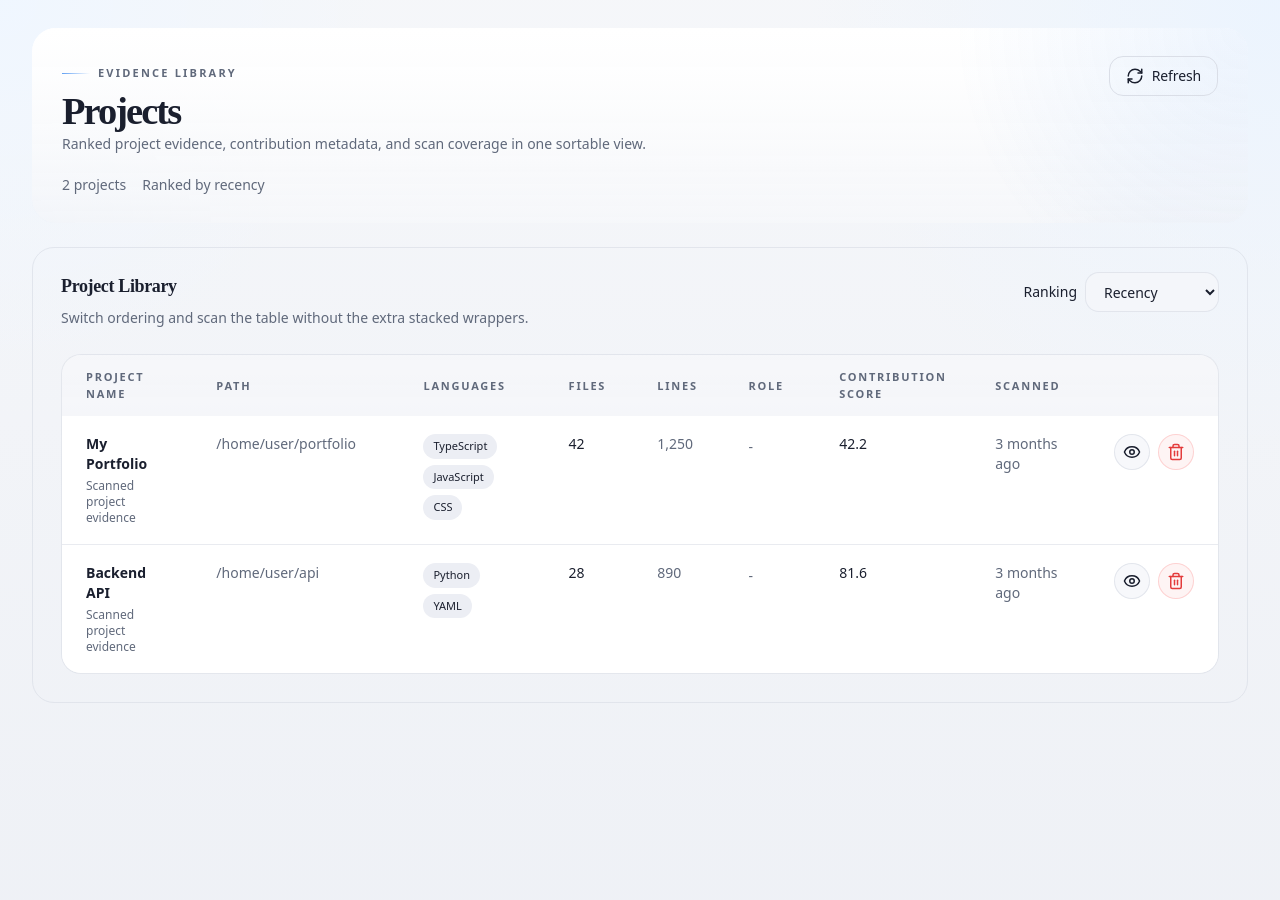
Scenario: ProjectsPage › handles delete error gracefully
Click the button titled "Delete project" in the row of "My Portfolio" at (1176, 452), box [1158,434,1194,470]
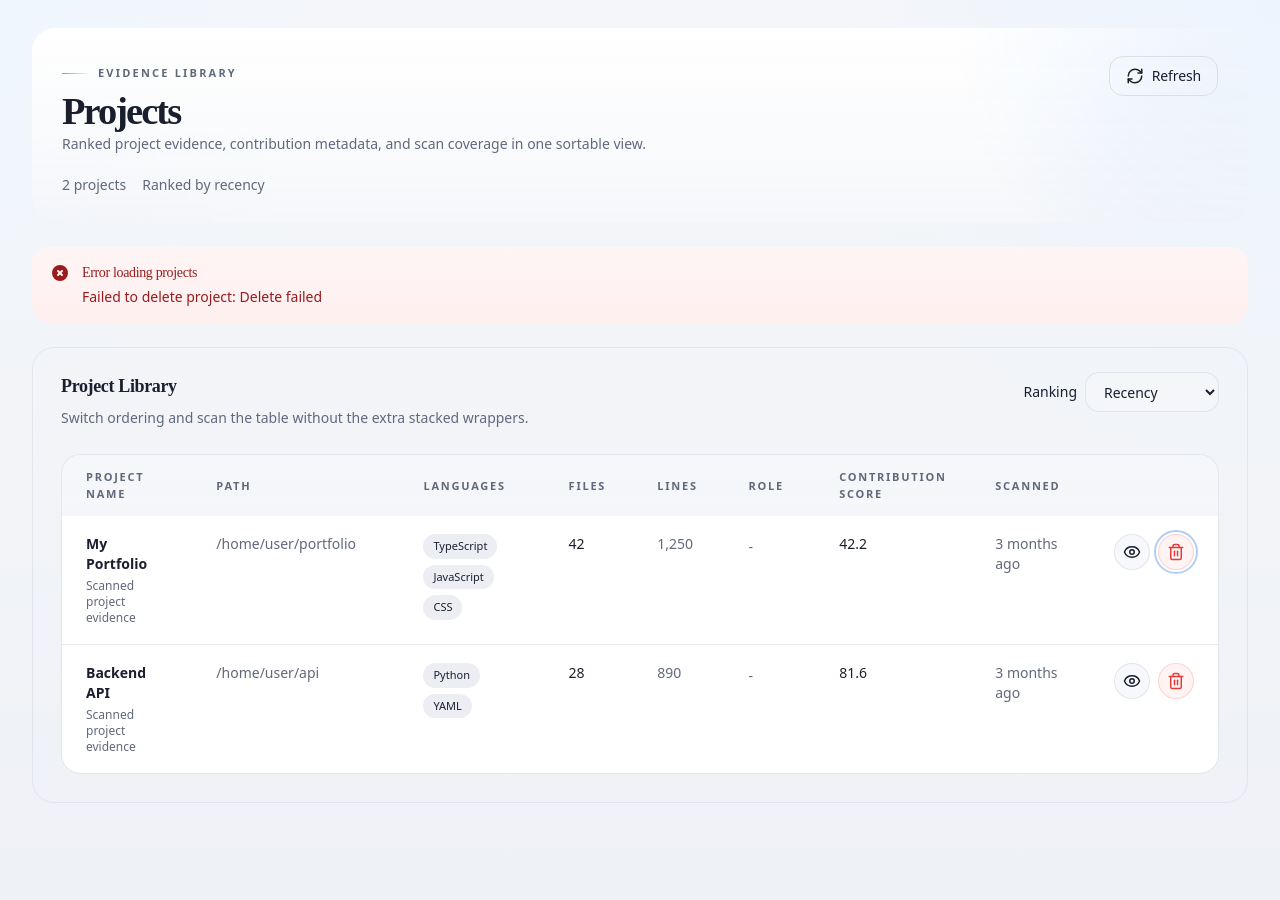
Expected: the text "My Portfolio" is shown, [86,534,147,574]
Expected: the text "Failed to delete project: Delete failed" is shown, [82,288,322,308]
